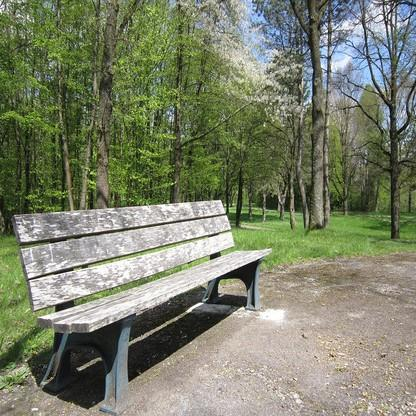obstacle: (8, 193, 278, 407)
